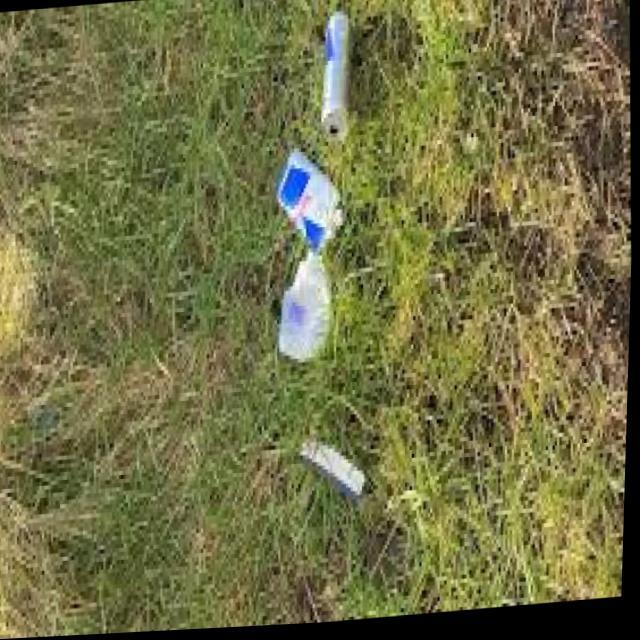clothes: (310, 1, 374, 151)
leaf: (261, 236, 348, 368)
trash: (272, 137, 352, 245)
wood: (294, 408, 384, 517)
